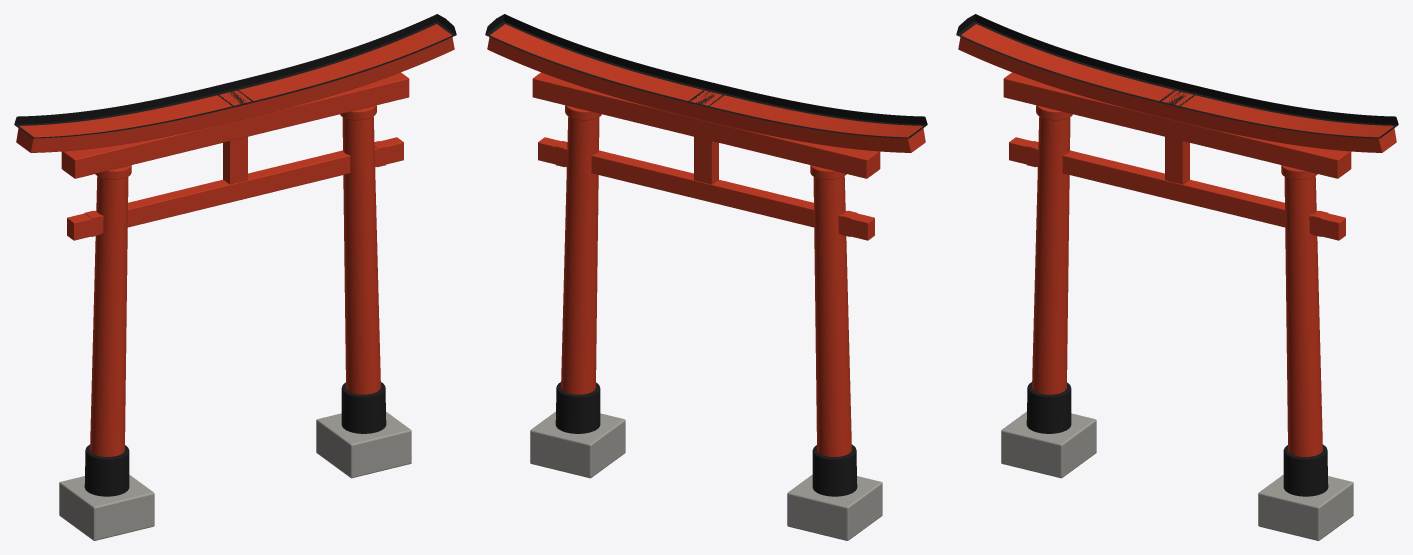
Rendered from torii.glb.
3 renders of one model, left to right at view 1: azimuth 30°, elevation 25°; view 2: azimuth 150°, elevation 25°; view 3: azimuth 330°, elevation 25°, orthographic.
Parts seen in each view (by area): view 1: daiwa_0, kamagi_0, footing_0; view 2: daiwa_0, kamagi_0, footing_0; view 3: daiwa_0, kamagi_0, footing_0.
Boxes of the visible parts, bbox=[...] form: daiwa_0: bbox=[16, 24, 454, 456]; kamagi_0: bbox=[14, 14, 456, 496]; footing_0: bbox=[59, 411, 411, 540]; daiwa_0: bbox=[487, 24, 925, 456]; kamagi_0: bbox=[485, 14, 927, 496]; footing_0: bbox=[530, 411, 882, 540]; daiwa_0: bbox=[958, 24, 1396, 456]; kamagi_0: bbox=[956, 14, 1398, 496]; footing_0: bbox=[1001, 411, 1353, 540].
Size of the model in its own units: 20.79 by 19.69 by 3.
